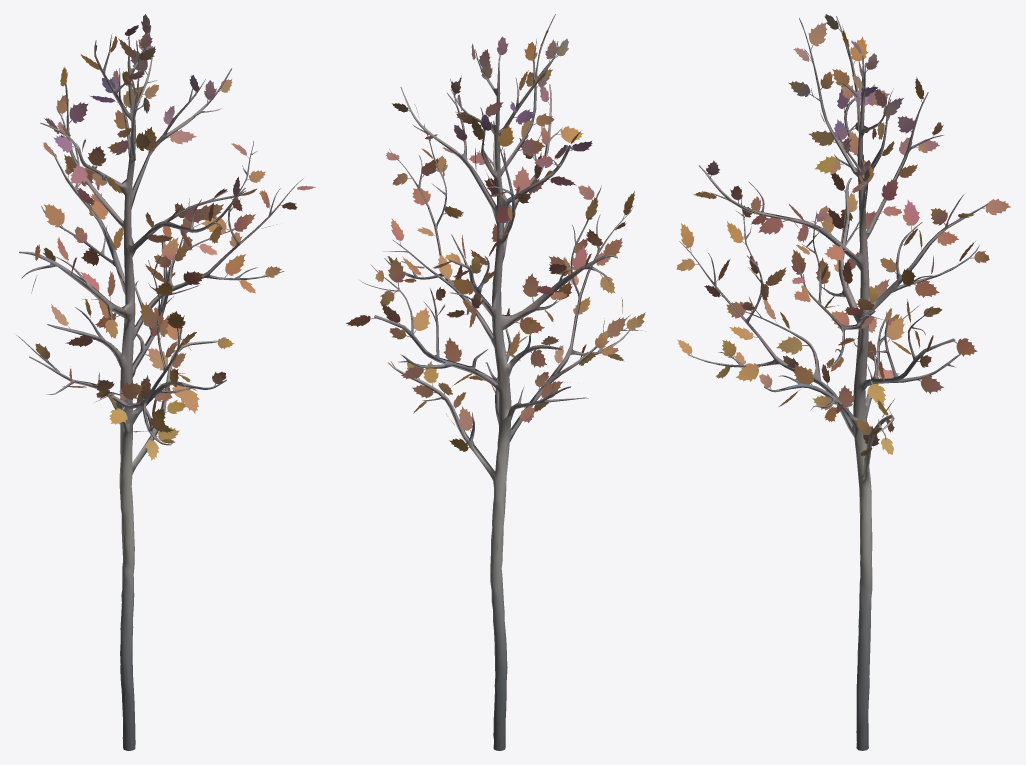
File: S_Aspen.fbx
3 views of the same model, side by side, from view 1: azimuth 30°, elevation 25°; view 2: azimuth 150°, elevation 25°; view 3: azimuth 270°, elevation 25° (orthographic). The views are drawn at different scales.
Visible parts, largest first — view 1: Aspen_GEO; view 2: Aspen_GEO; view 3: Aspen_GEO.
Boxes of the visible parts, left/top/right/bottom form: Aspen_GEO: left=16, top=14, right=315, bottom=750; Aspen_GEO: left=346, top=14, right=645, bottom=750; Aspen_GEO: left=676, top=14, right=1010, bottom=750.
Size of the model in its own units: 235 by 618 by 261.
